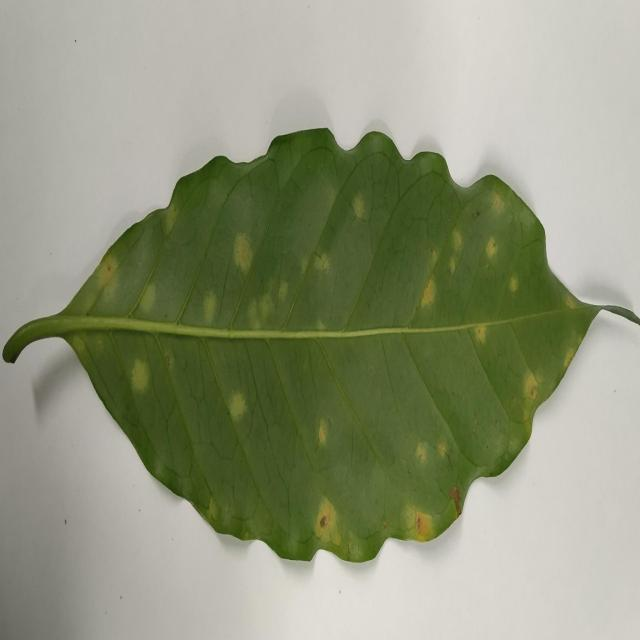Enfermedad-Roya: (1, 128, 635, 565)
